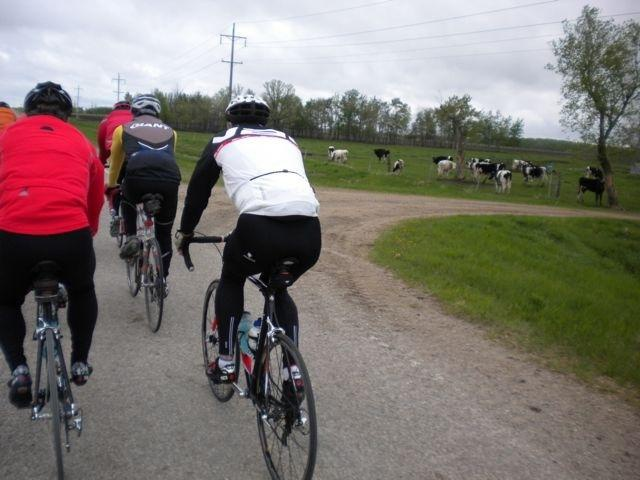non-vehicle: (181, 230, 318, 479), (13, 255, 88, 478), (110, 190, 171, 337), (102, 161, 141, 267)
